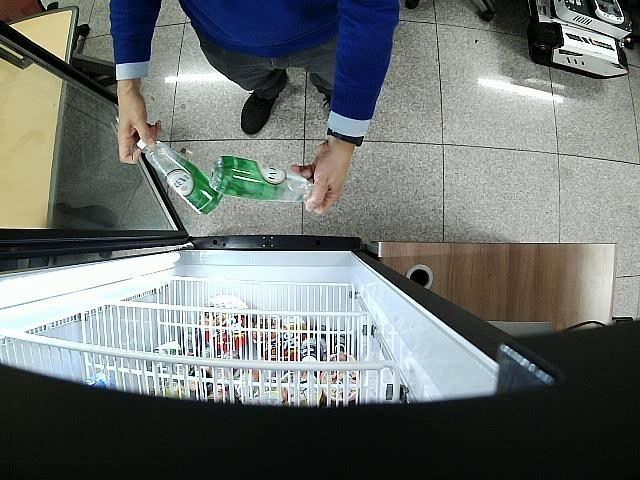18_trevi: (136, 140, 224, 214), (212, 156, 314, 200)
